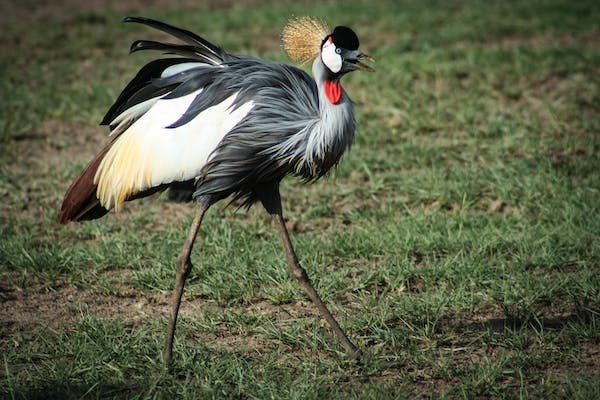Walking: (34, 3, 425, 393)
